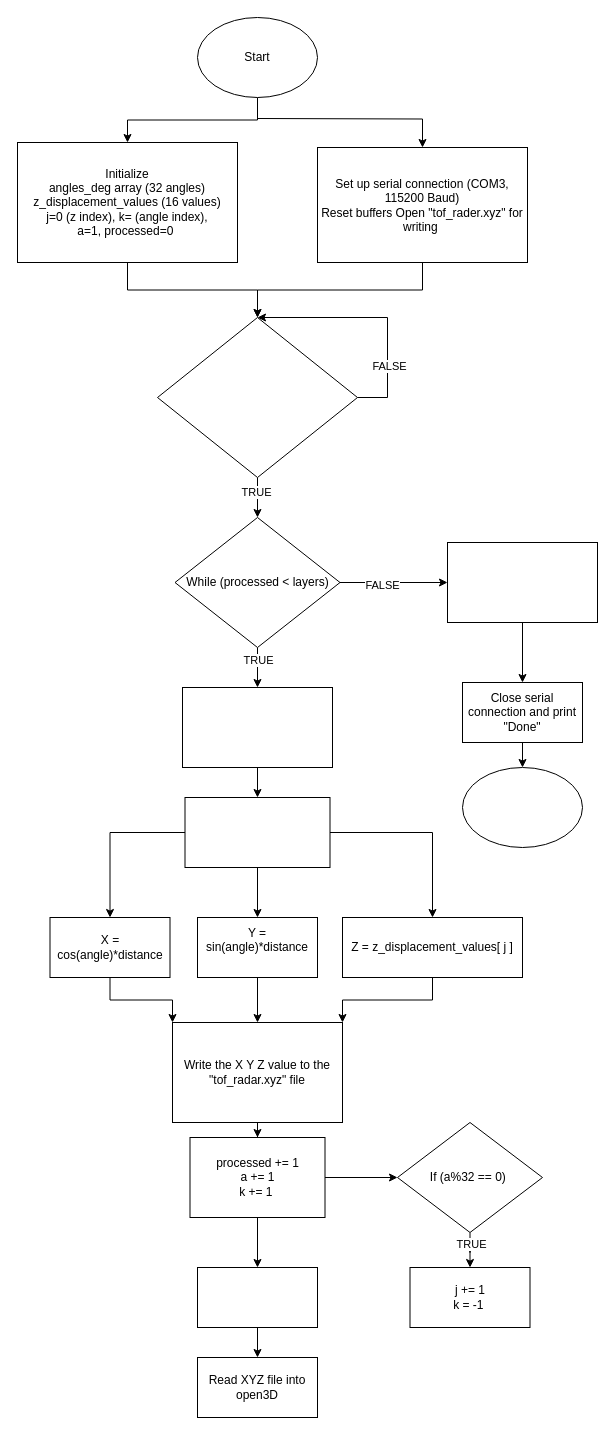
The diagram is 615 pixels wide and 1435 high, and some of its shapes have lost their labels. The shapes that lost their labels are listed below. From the top down, each one's box as (x1, y1, x2, y2) in pixels, then its label:
(156, 316, 358, 478): Wait for user input
(446, 542, 598, 622): Create line connections
(182, 686, 332, 768): Read serial data line
(462, 766, 582, 848): End
(184, 796, 330, 868): Convert to Cartesian Coordinates
(196, 1266, 318, 1328): Point cloud Processing
